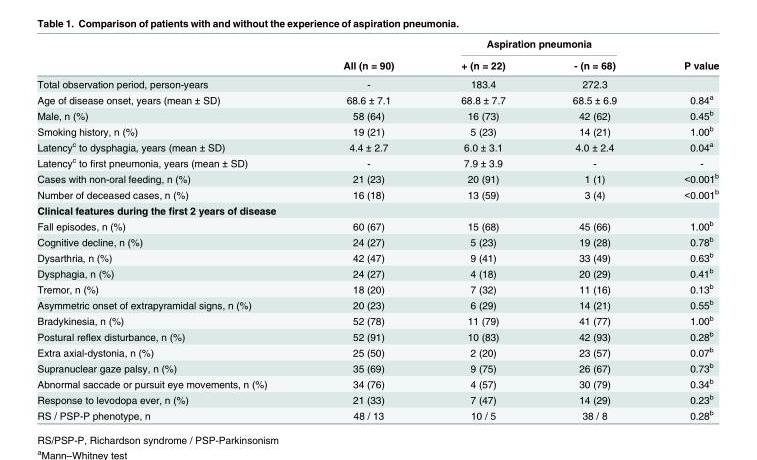table: (36, 37, 718, 420)
table column: (36, 37, 308, 420), (308, 37, 426, 420), (426, 37, 538, 420), (538, 37, 649, 420), (649, 37, 718, 420)
table column header: (36, 37, 718, 74)
table projected row header: (36, 202, 718, 217)
table row: (36, 53, 718, 74), (36, 185, 718, 202), (36, 37, 718, 53), (36, 74, 718, 90), (36, 90, 718, 106), (36, 106, 718, 122), (36, 122, 718, 138), (36, 138, 718, 154), (36, 169, 718, 185), (36, 217, 718, 233), (36, 248, 718, 264), (36, 264, 718, 280), (36, 280, 718, 296), (36, 311, 718, 327), (36, 327, 718, 343), (36, 343, 718, 359), (36, 359, 718, 375), (36, 390, 718, 406), (36, 154, 718, 169), (36, 202, 718, 217), (36, 233, 718, 248), (36, 296, 718, 311), (36, 375, 718, 390), (36, 406, 718, 420)
table spanning cell: (308, 37, 426, 74), (426, 37, 649, 53), (649, 37, 718, 74)
